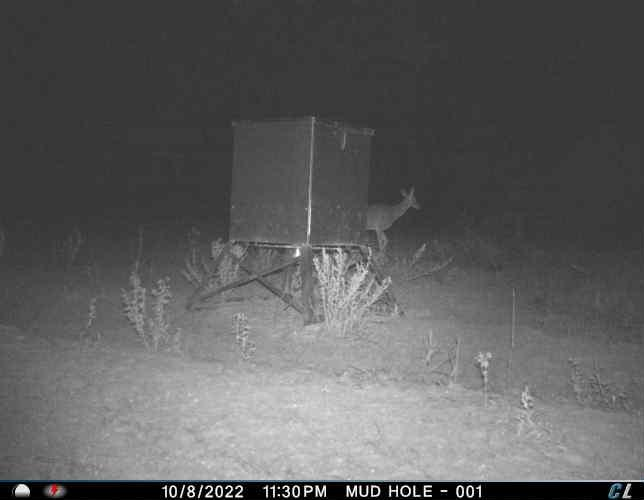Deer: (369, 186, 424, 256)
